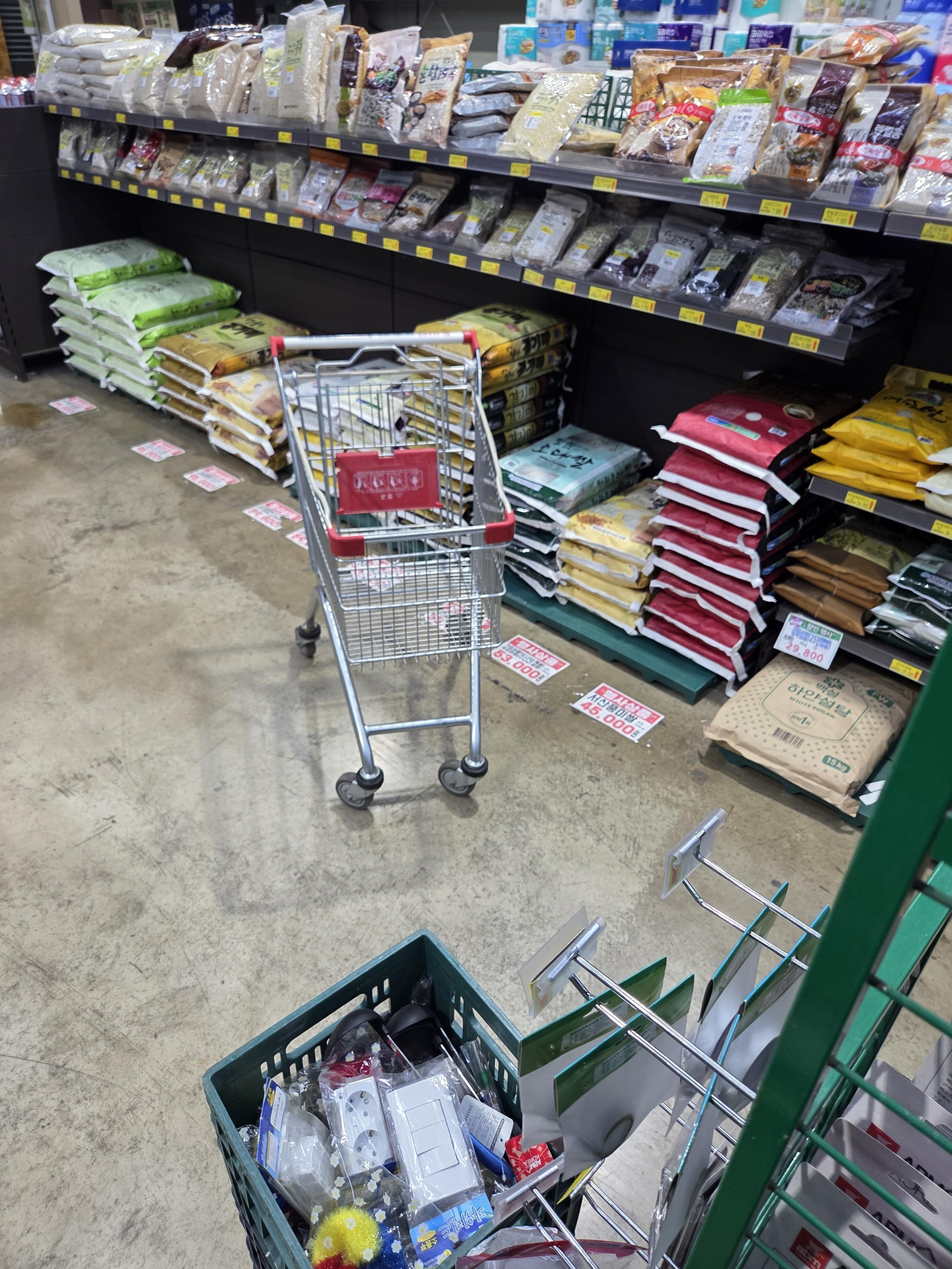empty_cart: (273, 324, 517, 797)
